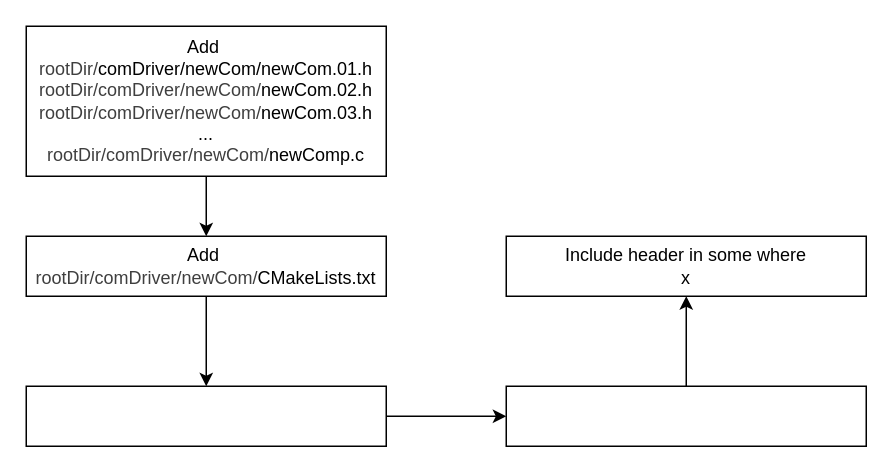
Image size: 893x473. Some labels were removed from this diagram. The centre of each missing label's shape, as x and y in pixels:
"Add `set(EXTRA_COMPONENT_DIRS ...` rootDir/CMakeLists.txt" goes at point (205, 415).
"Add `target_include_directories( ... ` rootDir/main/CMakeLists.txt" goes at point (685, 415).
